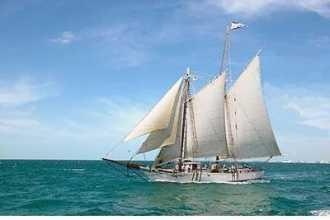fanchuan: (105, 42, 283, 185)
